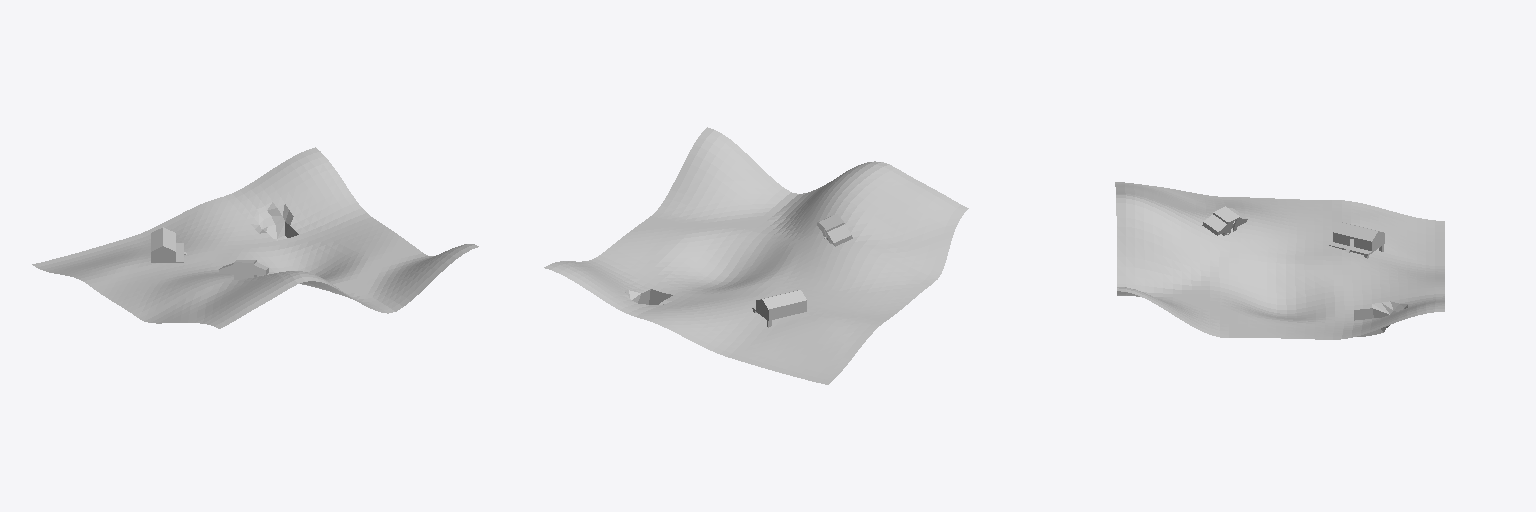
File: land.obj
3 views of the same model, side by side, from view 1: azimuth 30°, elevation 25°; view 2: azimuth 150°, elevation 25°; view 3: azimuth 270°, elevation 25° (orthographic).
Parts seen in each view (by area): view 1: Plane, Cube.003, Cube; view 2: Plane, Cube.003, Cube; view 3: Plane, Cube.003, Cube.
Part boxes in pixels (left/top/right/bottom): Plane: left=32, top=147, right=478, bottom=328; Cube.003: left=151, top=227, right=186, bottom=262; Cube: left=219, top=260, right=268, bottom=279; Plane: left=544, top=127, right=968, bottom=384; Cube.003: left=752, top=290, right=806, bottom=327; Cube: left=817, top=214, right=852, bottom=246; Plane: left=1115, top=182, right=1444, bottom=339; Cube.003: left=1329, top=222, right=1384, bottom=258; Cube: left=1202, top=206, right=1247, bottom=235.
Size of the model in its own units: 2 by 0.5724 by 2.01.